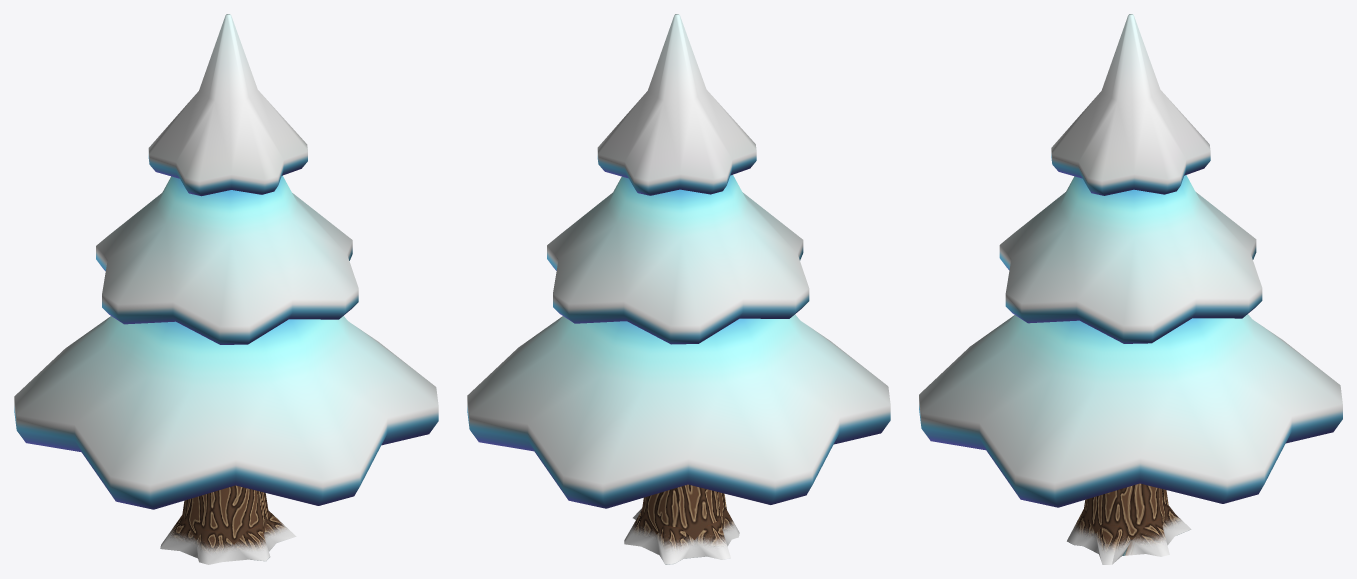
The model's file is Pinetree_01.fbx.
The picture shows the model from 3 angles, left to right: view 1: azimuth 30°, elevation 25°; view 2: azimuth 150°, elevation 25°; view 3: azimuth 270°, elevation 25°; orthographic projection.
Visible parts, largest first — view 1: Pinetree_01; view 2: Pinetree_01; view 3: Pinetree_01.
Part boxes in pixels (x1,y1,x2,y2): Pinetree_01: (14,14,438,564); Pinetree_01: (467,14,890,564); Pinetree_01: (919,14,1342,564).
Bounding box in the file's own units: 114 × 166 × 122.
